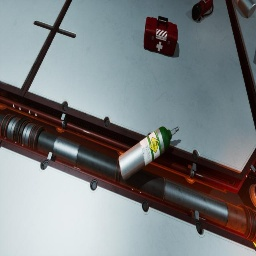0: (118, 126, 180, 181), (234, 0, 256, 18)
FireExtinguisher ]: (192, 0, 213, 21)
FirstAidBox ,: (144, 16, 178, 56)
